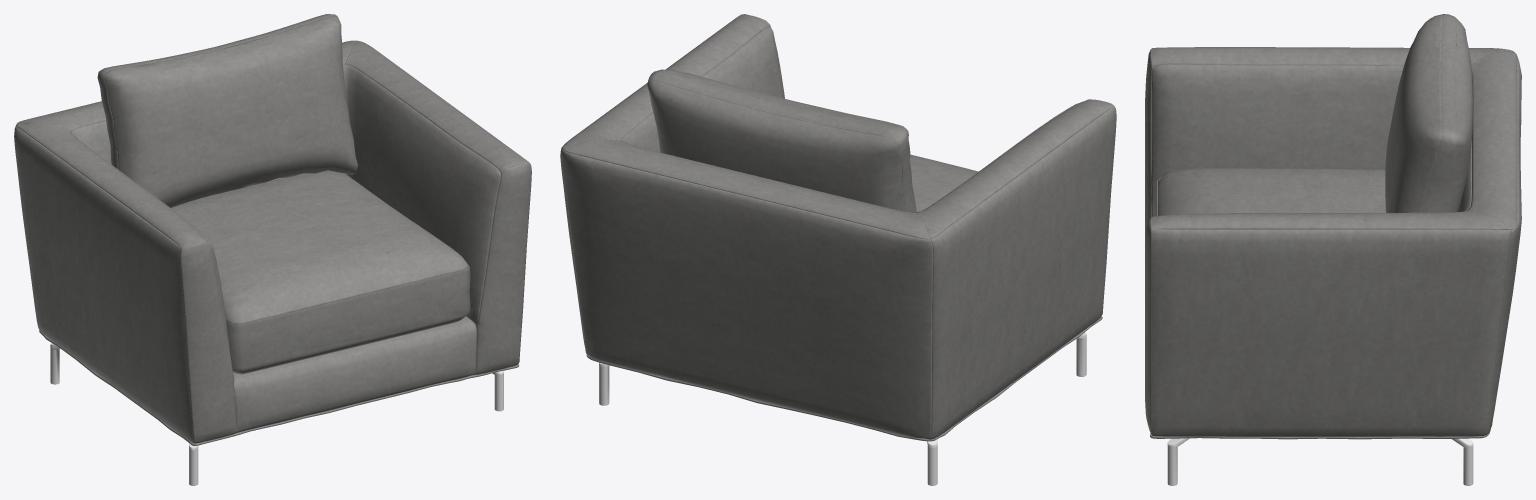
3 views of the same model, side by side, from view 1: azimuth 30°, elevation 25°; view 2: azimuth 150°, elevation 25°; view 3: azimuth 270°, elevation 25° (orthographic). The views are drawn at different scales.
Parts seen in each view (by area): view 1: B07P5LN39V; view 2: B07P5LN39V; view 3: B07P5LN39V.
Boxes of the visible parts, x1,y1,x2,y2 form: B07P5LN39V: (14,14,531,485); B07P5LN39V: (560,14,1116,485); B07P5LN39V: (1145,14,1521,485).
Size of the model in its own units: 1.04 by 0.864 by 0.8889.
1 material, 1 textured.
